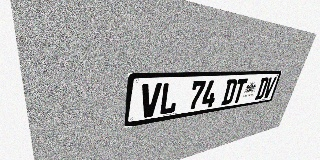4: (201, 80, 219, 109)
7: (187, 81, 206, 111)
D: (221, 79, 238, 105), (255, 77, 269, 100)
L: (158, 82, 180, 115)
T: (231, 78, 248, 104)
V: (139, 83, 162, 119), (262, 77, 277, 99)
